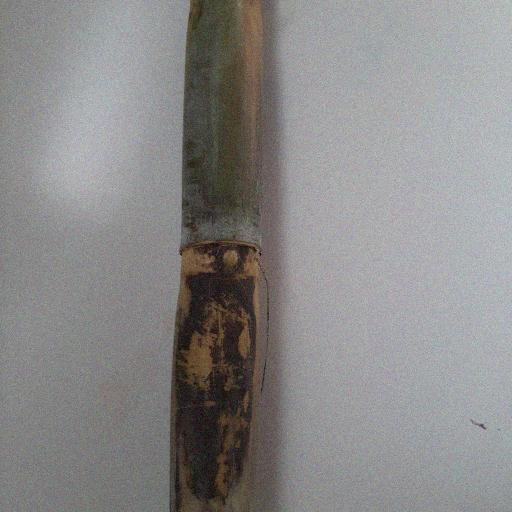Bud: (215, 246, 243, 277)
